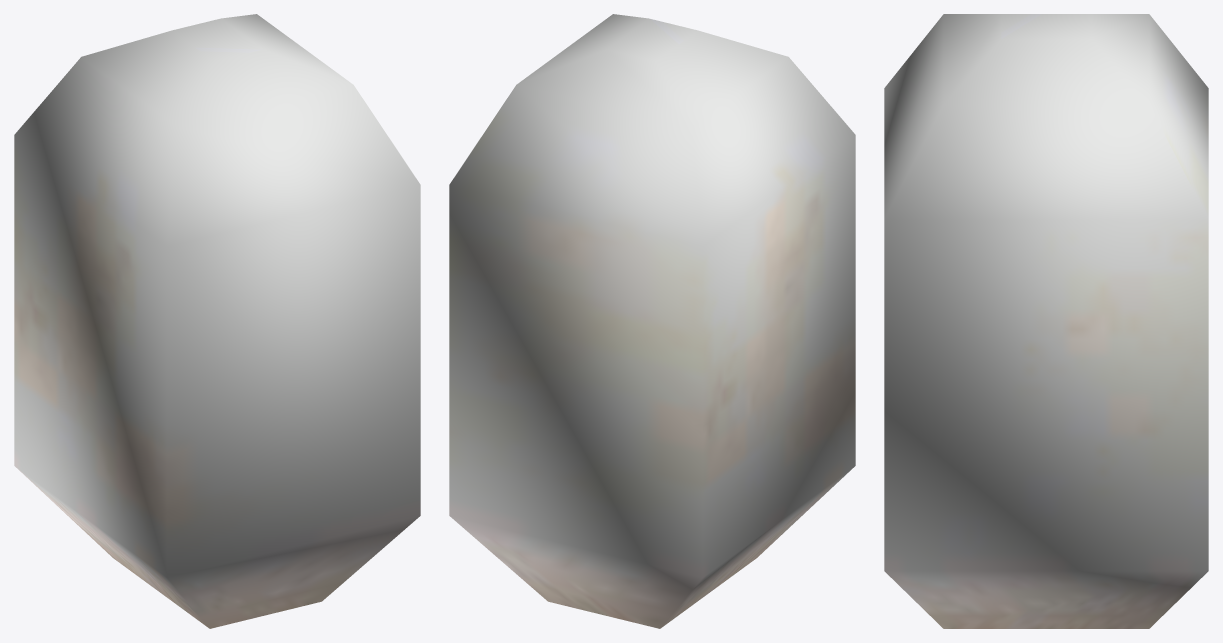
File: light_blink_blue_l1.fbx
3 renders of one model, left to right at view 1: azimuth 30°, elevation 25°; view 2: azimuth 150°, elevation 25°; view 3: azimuth 270°, elevation 25°, orthographic. The views are drawn at different scales.
Parts seen in each view (by area): view 1: mesh_node; view 2: mesh_node; view 3: mesh_node.
Part boxes in pixels (x1,y1,x2,y2): mesh_node: (14,14,420,628); mesh_node: (449,14,855,628); mesh_node: (884,14,1208,628).
Bounding box in the file's own units: 0.1173 × 0.2386 × 0.1225.
